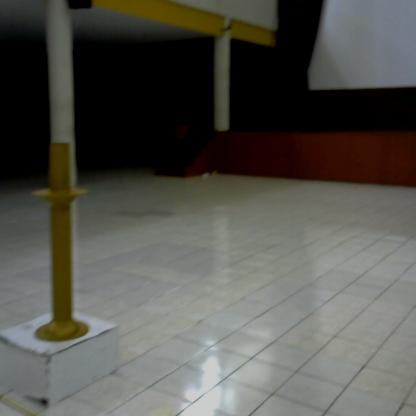pole: (27, 136, 93, 348)
